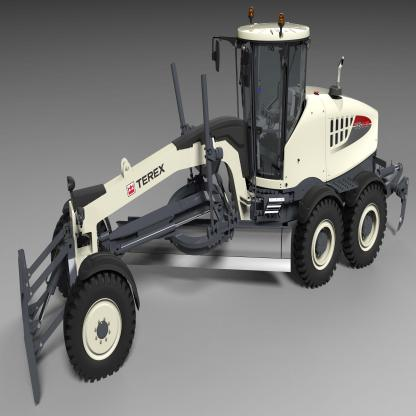bull_dozer/loader/grader: (28, 21, 406, 380)
